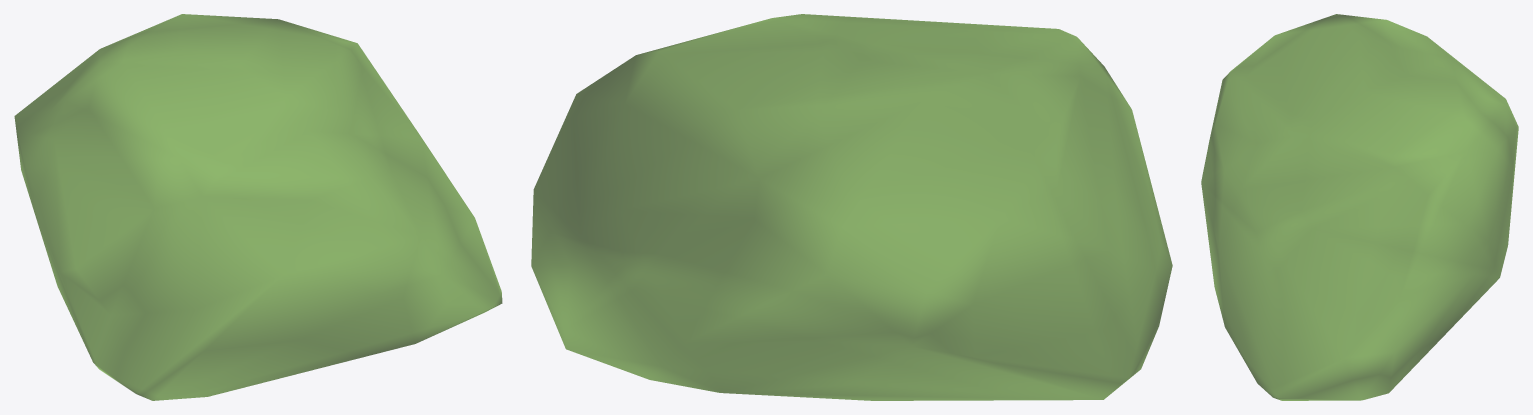
Rendered from SMALL_desert_rock_03_Unity_colliders.fbx.
3 renders of one model, left to right at view 1: azimuth 30°, elevation 25°; view 2: azimuth 150°, elevation 25°; view 3: azimuth 270°, elevation 25°, orthographic. The views are drawn at different scales.
Visible parts, largest first — view 1: SMALL_desert_rock_03_collider_01; view 2: SMALL_desert_rock_03_collider_01; view 3: SMALL_desert_rock_03_collider_01.
Part boxes in pixels (x1,y1,x2,y2): SMALL_desert_rock_03_collider_01: [14, 14, 502, 400]; SMALL_desert_rock_03_collider_01: [531, 14, 1172, 400]; SMALL_desert_rock_03_collider_01: [1201, 14, 1518, 400].
Size of the model in its own units: 42.86 by 27.77 by 31.53.
